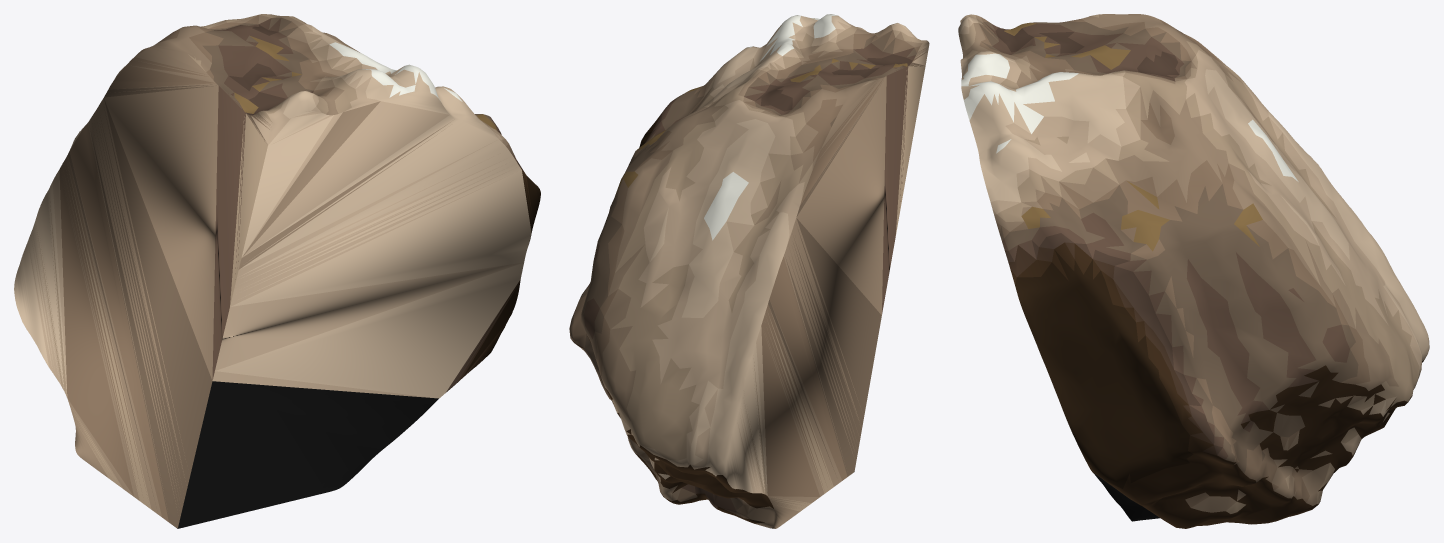
The model's file is rock_column_tr.glb.
3 views of the same model, side by side, from view 1: azimuth 30°, elevation 25°; view 2: azimuth 150°, elevation 25°; view 3: azimuth 270°, elevation 25° (orthographic). The views are drawn at different scales.
Parts seen in each view (by area): view 1: rock_column_tr; view 2: rock_column_tr; view 3: rock_column_tr.
Boxes of the visible parts, x1,y1,x2,y2 form: rock_column_tr: (14,14,540,528); rock_column_tr: (569,14,929,528); rock_column_tr: (958,14,1429,528).
Size of the model in its own units: 23.49 by 35.83 by 34.12.
